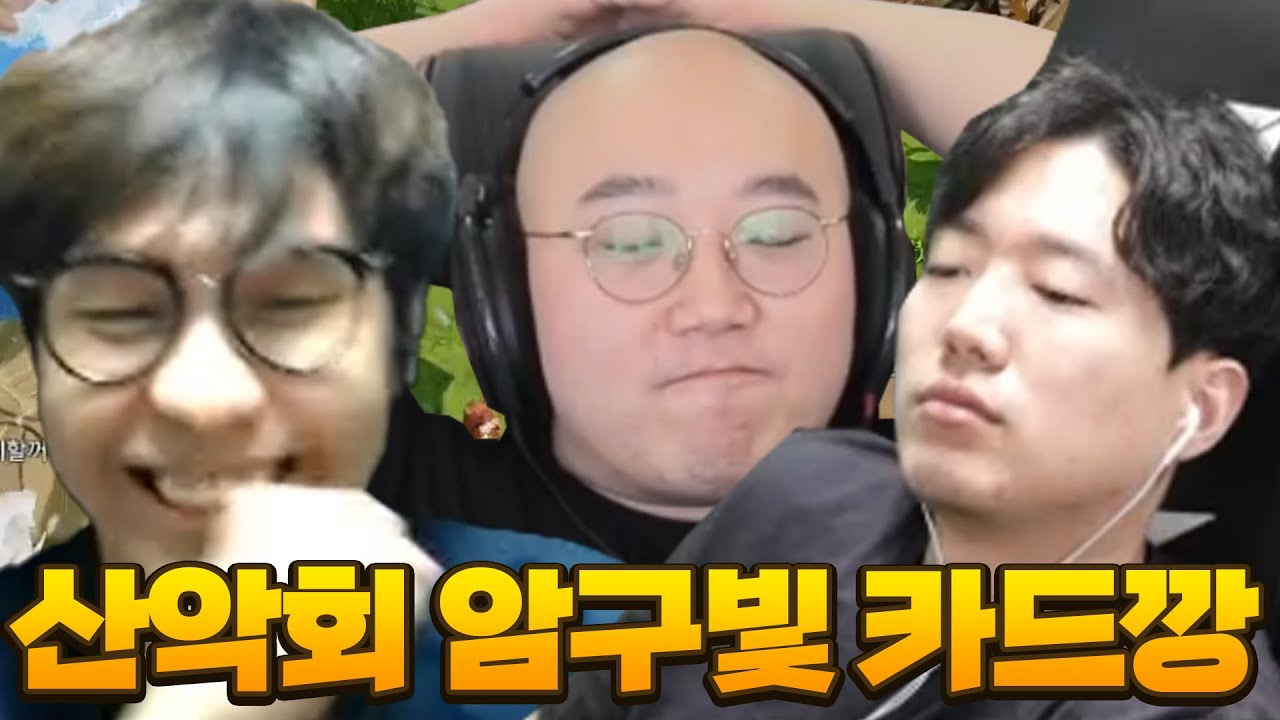산악회: (12, 557, 412, 701)
암구빛: (429, 561, 844, 706)
카드깡: (846, 561, 1264, 706)
